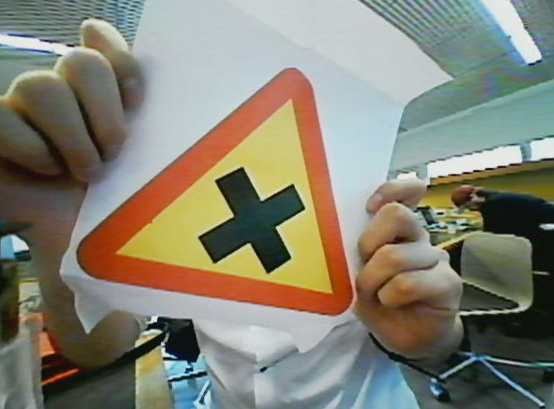junction: (100, 76, 357, 327)
